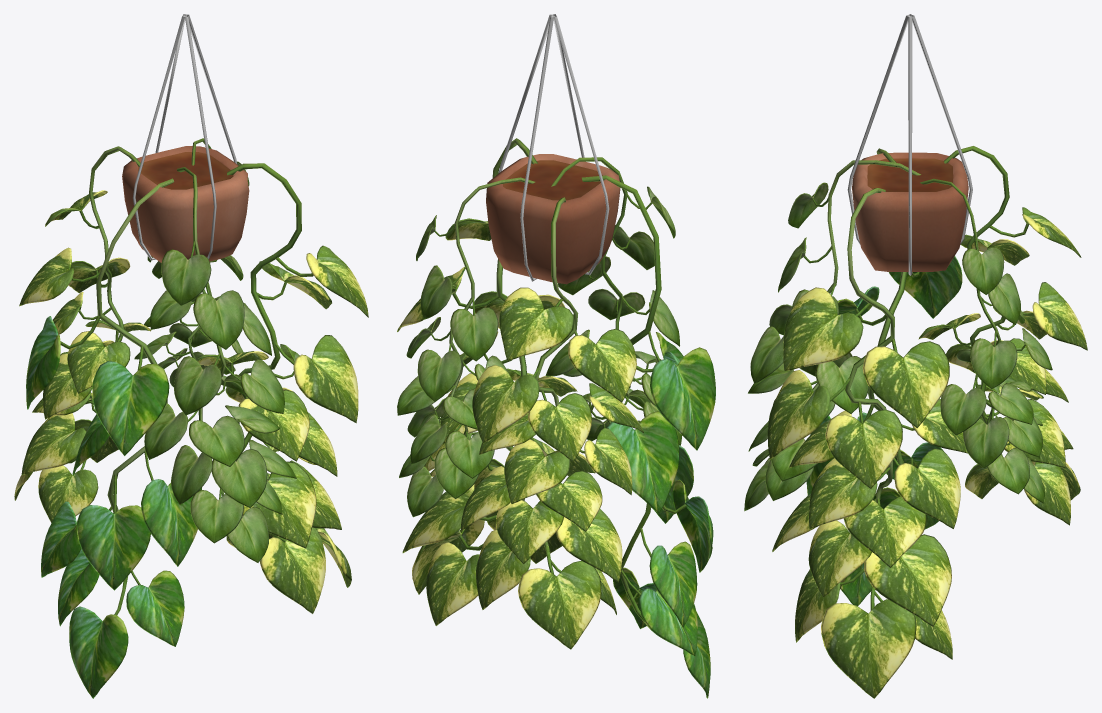
The model's file is askibitki.fbx.
3 renders of one model, left to right at view 1: azimuth 30°, elevation 25°; view 2: azimuth 150°, elevation 25°; view 3: azimuth 270°, elevation 25°, orthographic. The views are drawn at different scales.
Parts seen in each view (by area): view 1: Constructed Sample; view 2: Constructed Sample; view 3: Constructed Sample.
Boxes of the visible parts, x1,y1,x2,y2 form: Constructed Sample: (14, 14, 368, 698); Constructed Sample: (397, 14, 715, 698); Constructed Sample: (744, 14, 1087, 698).
Size of the model in its own units: 900 by 1853 by 884.
